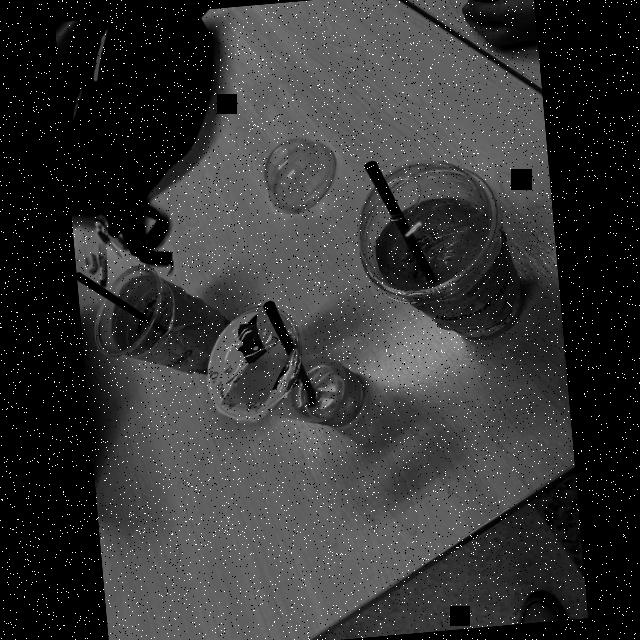plastic_cup: (358, 162, 526, 350), (200, 300, 367, 441), (86, 260, 234, 396)
plastic_cup_lid: (349, 154, 504, 308), (257, 134, 340, 218)
straw: (360, 158, 437, 289), (259, 298, 320, 406), (75, 270, 164, 336)
